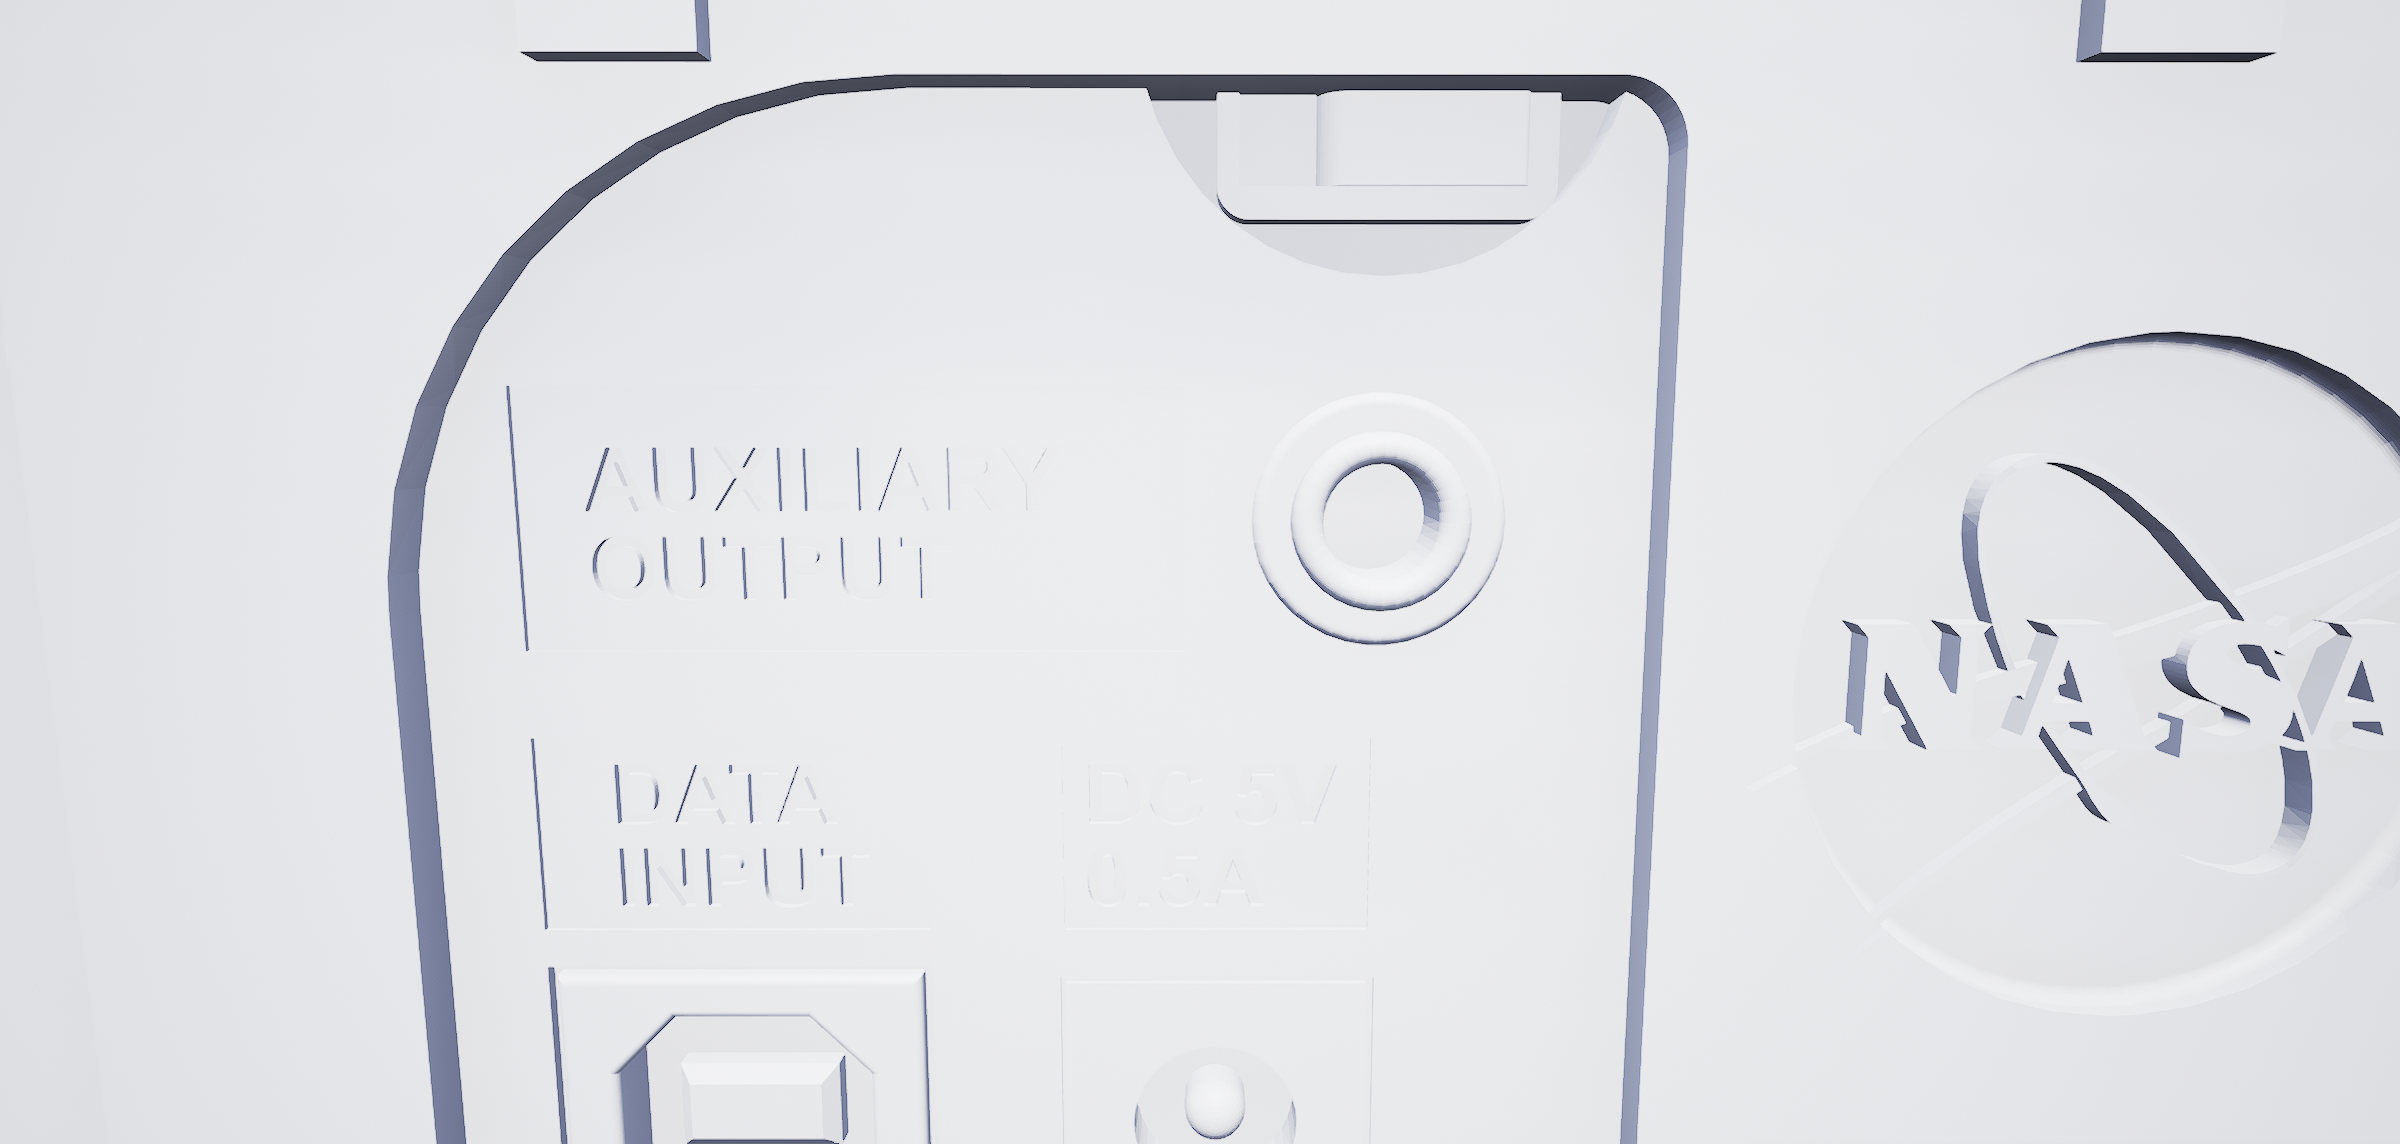aux: (1241, 378, 1523, 646)
dc: (1104, 1034, 1321, 1144)
usb: (594, 989, 892, 1144)
